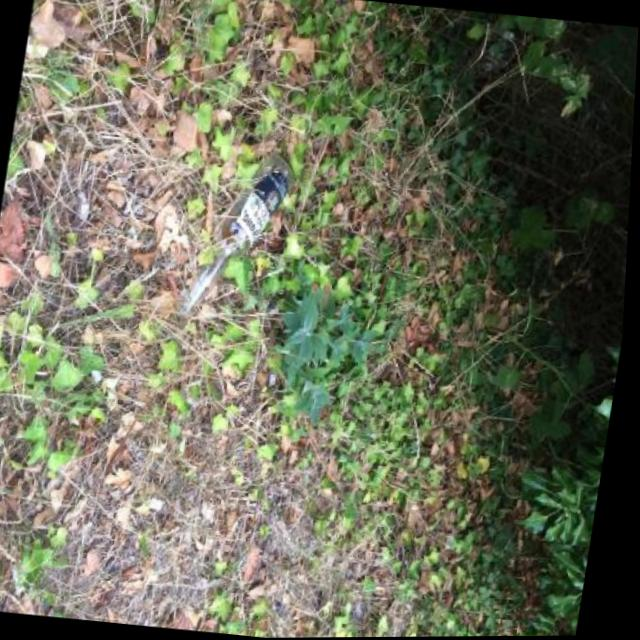glass: (170, 143, 299, 329)
